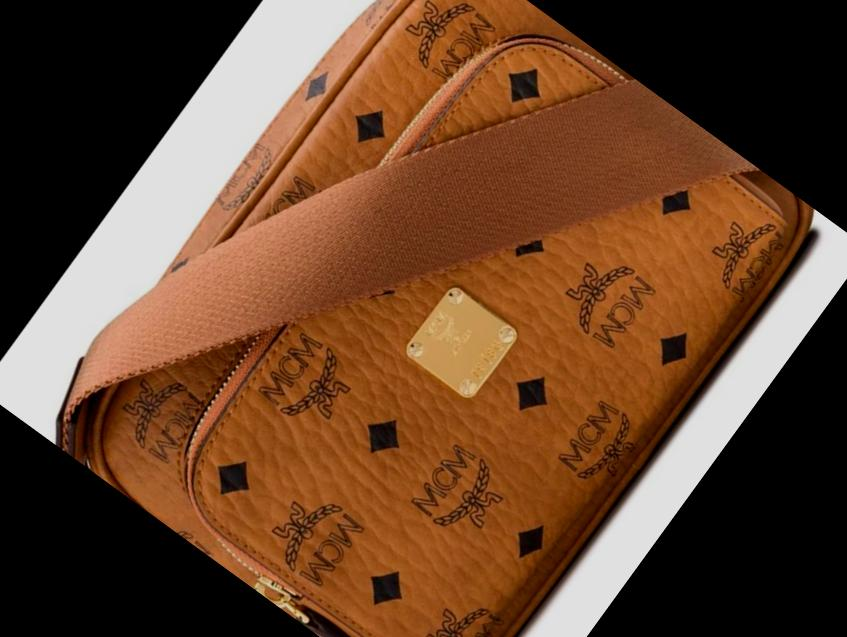MCM: (34, 0, 826, 637)
